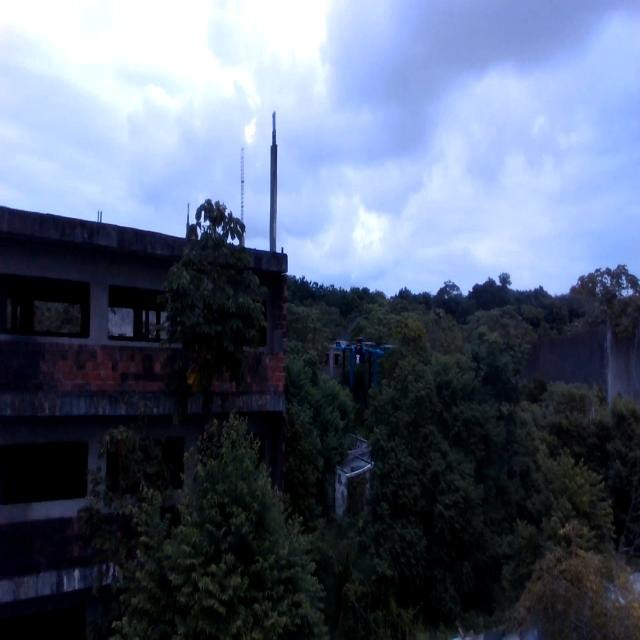-uav-: (324, 318, 394, 403)
